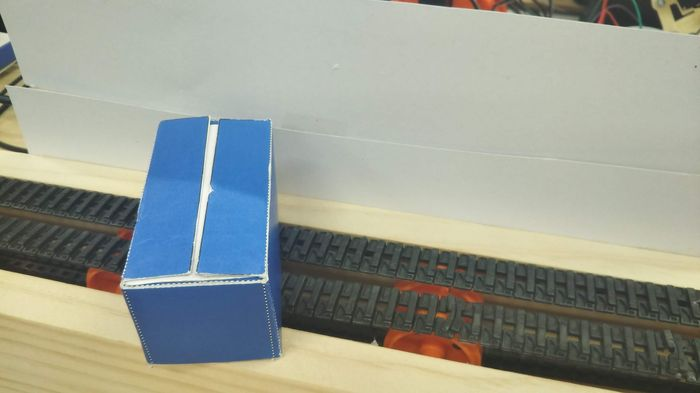box3: (115, 114, 287, 369)
